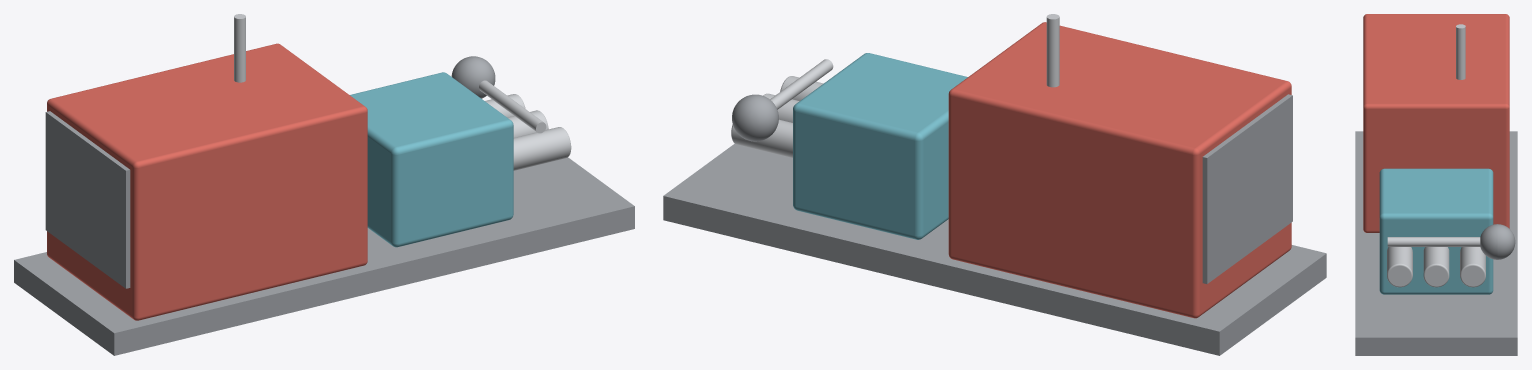
Rendered from sk575_bomba.glb.
3 renders of one model, left to right at view 1: azimuth 30°, elevation 25°; view 2: azimuth 150°, elevation 25°; view 3: azimuth 270°, elevation 25°, orthographic. The views are drawn at different scales.
Visible parts, largest first — view 1: sk575_bomba_rojo, sk575_bomba_acero_oscuro, sk575_bomba_azul, sk575_bomba_acero; view 2: sk575_bomba_rojo, sk575_bomba_acero_oscuro, sk575_bomba_azul, sk575_bomba_acero; view 3: sk575_bomba_rojo, sk575_bomba_acero_oscuro, sk575_bomba_azul, sk575_bomba_acero.
Part boxes in pixels (x1,y1,x2,y2): sk575_bomba_rojo: (47,43,367,320); sk575_bomba_acero_oscuro: (14,56,634,355); sk575_bomba_azul: (350,72,513,247); sk575_bomba_acero: (234,14,571,170); sk575_bomba_rojo: (948,22,1291,318); sk575_bomba_acero_oscuro: (663,94,1326,355); sk575_bomba_azul: (793,53,967,239); sk575_bomba_acero: (731,14,1059,157); sk575_bomba_rojo: (1363,14,1509,232); sk575_bomba_acero_oscuro: (1355,131,1517,355); sk575_bomba_azul: (1379,168,1493,294); sk575_bomba_acero: (1387,24,1485,287).
Bounding box in the file's own units: 6 × 2.7 × 2.
